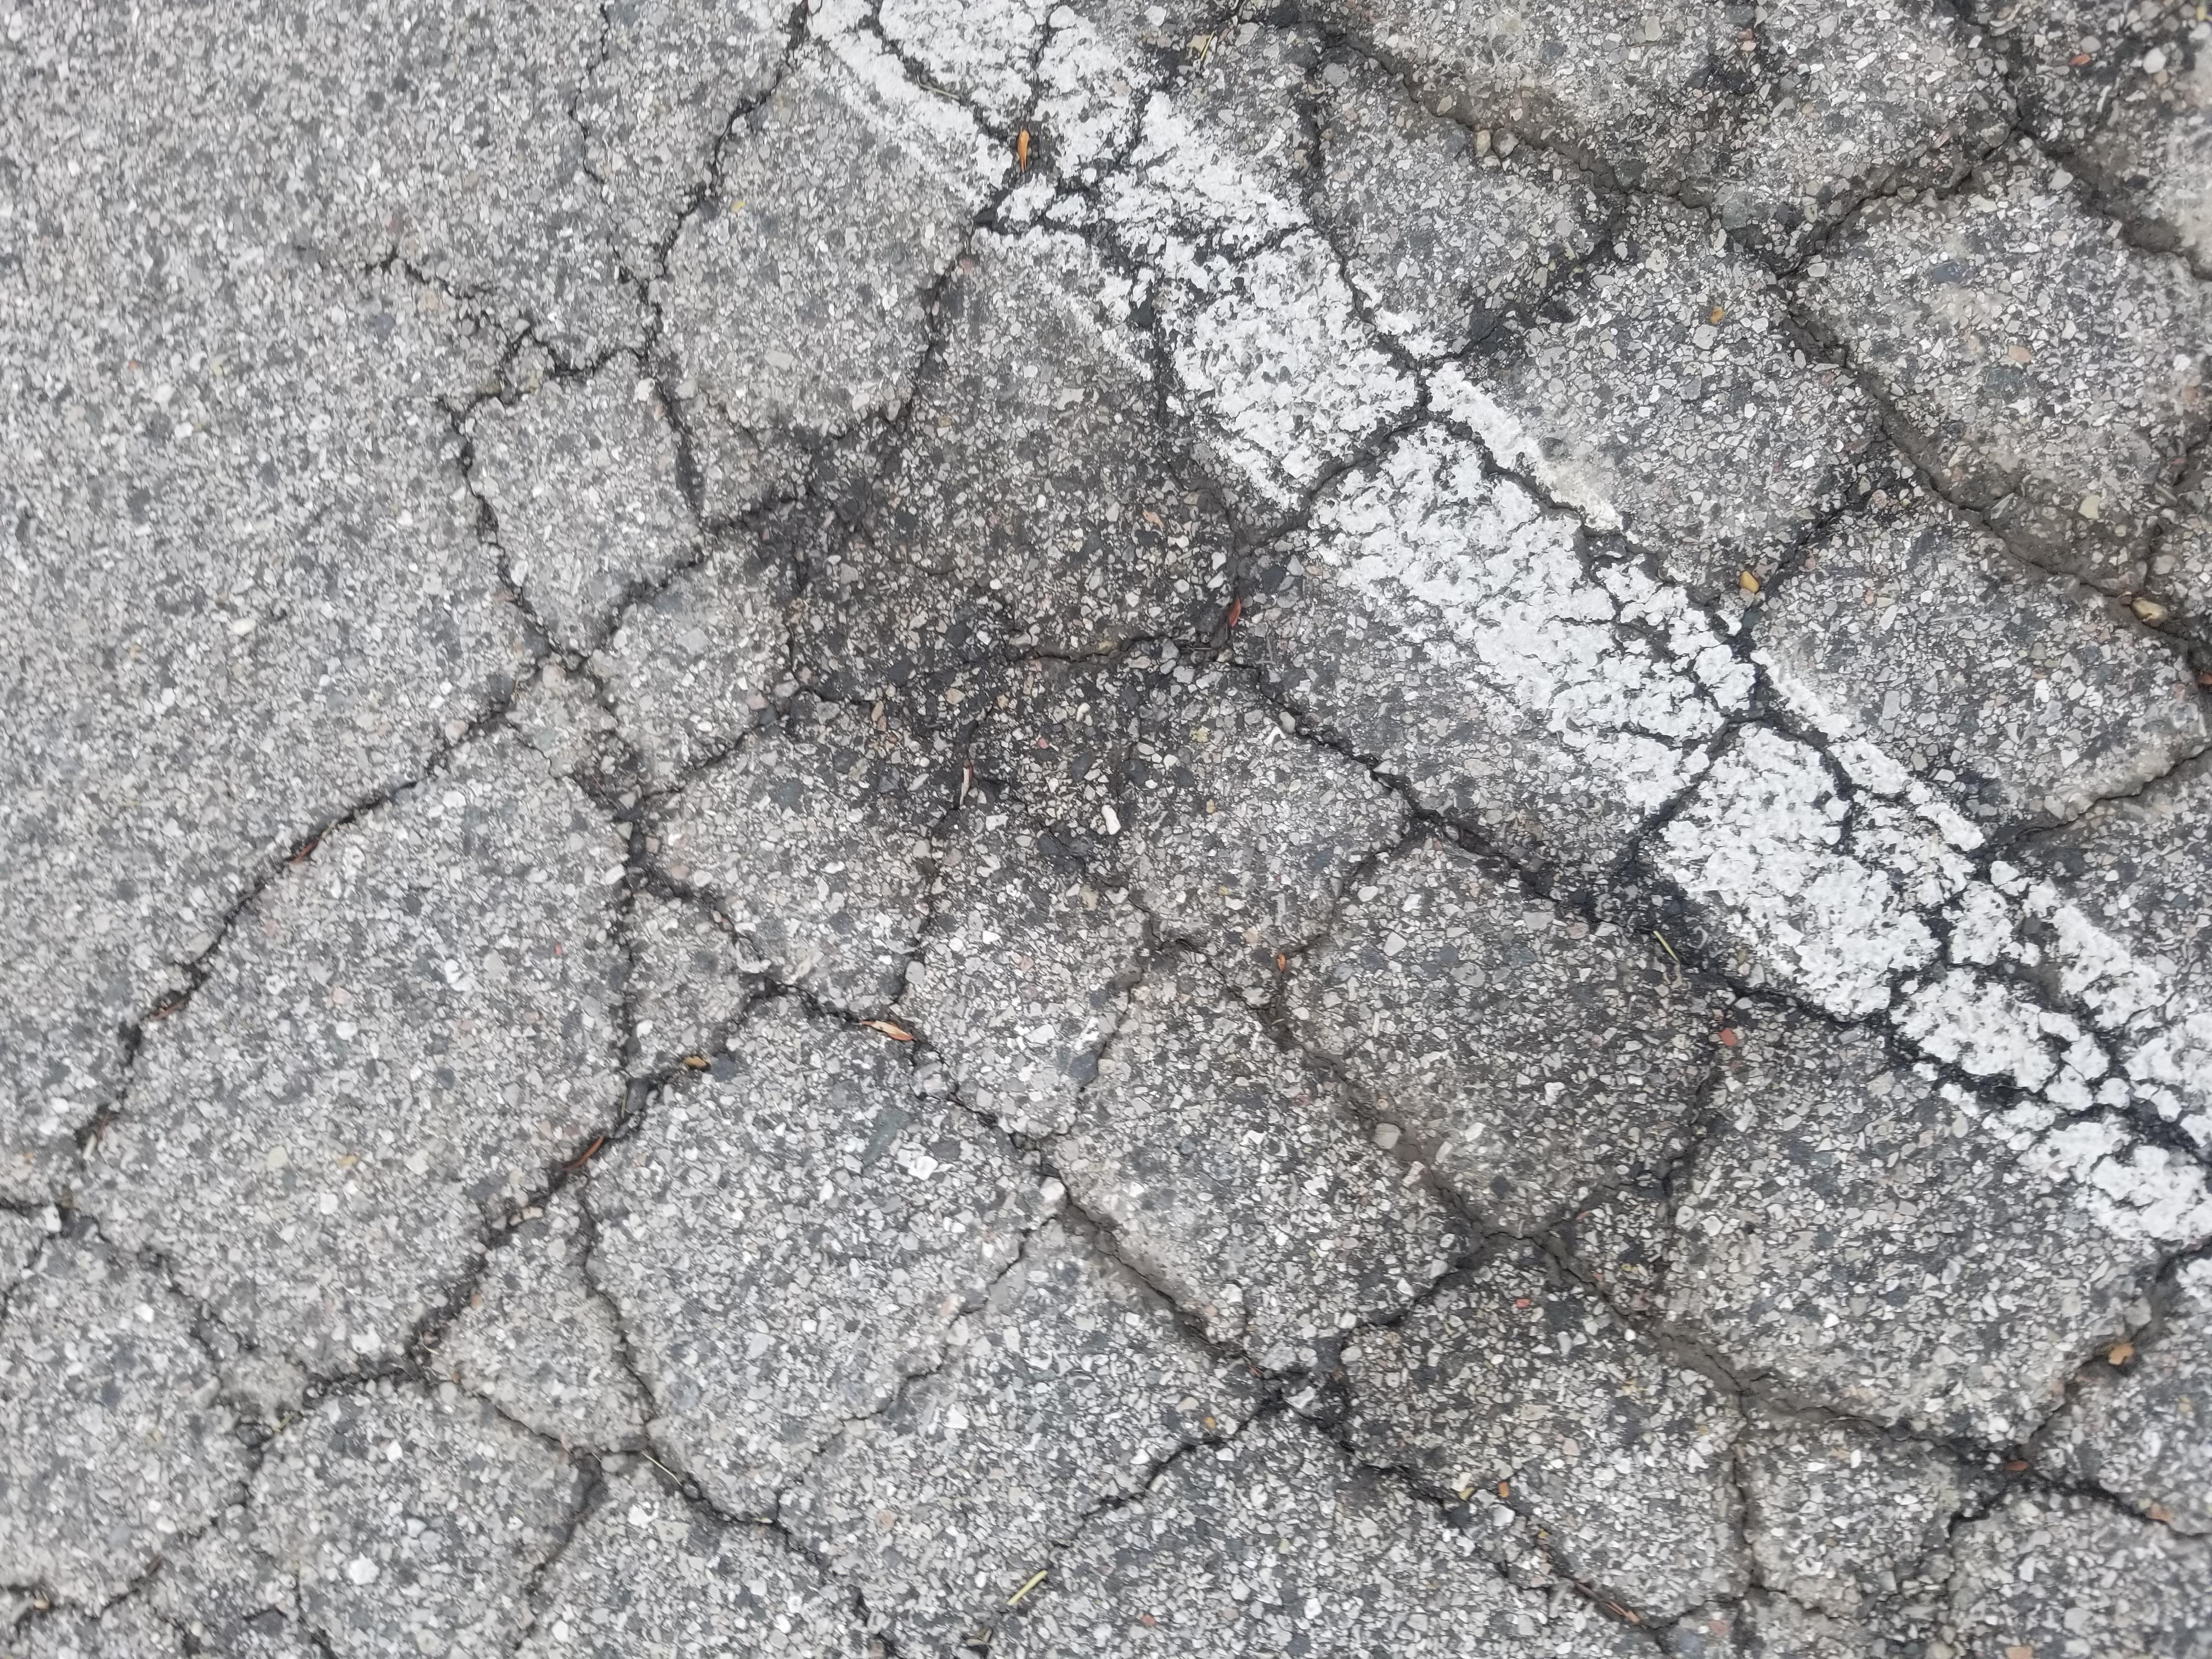alligator-crack: (7, 9, 2186, 1659)
